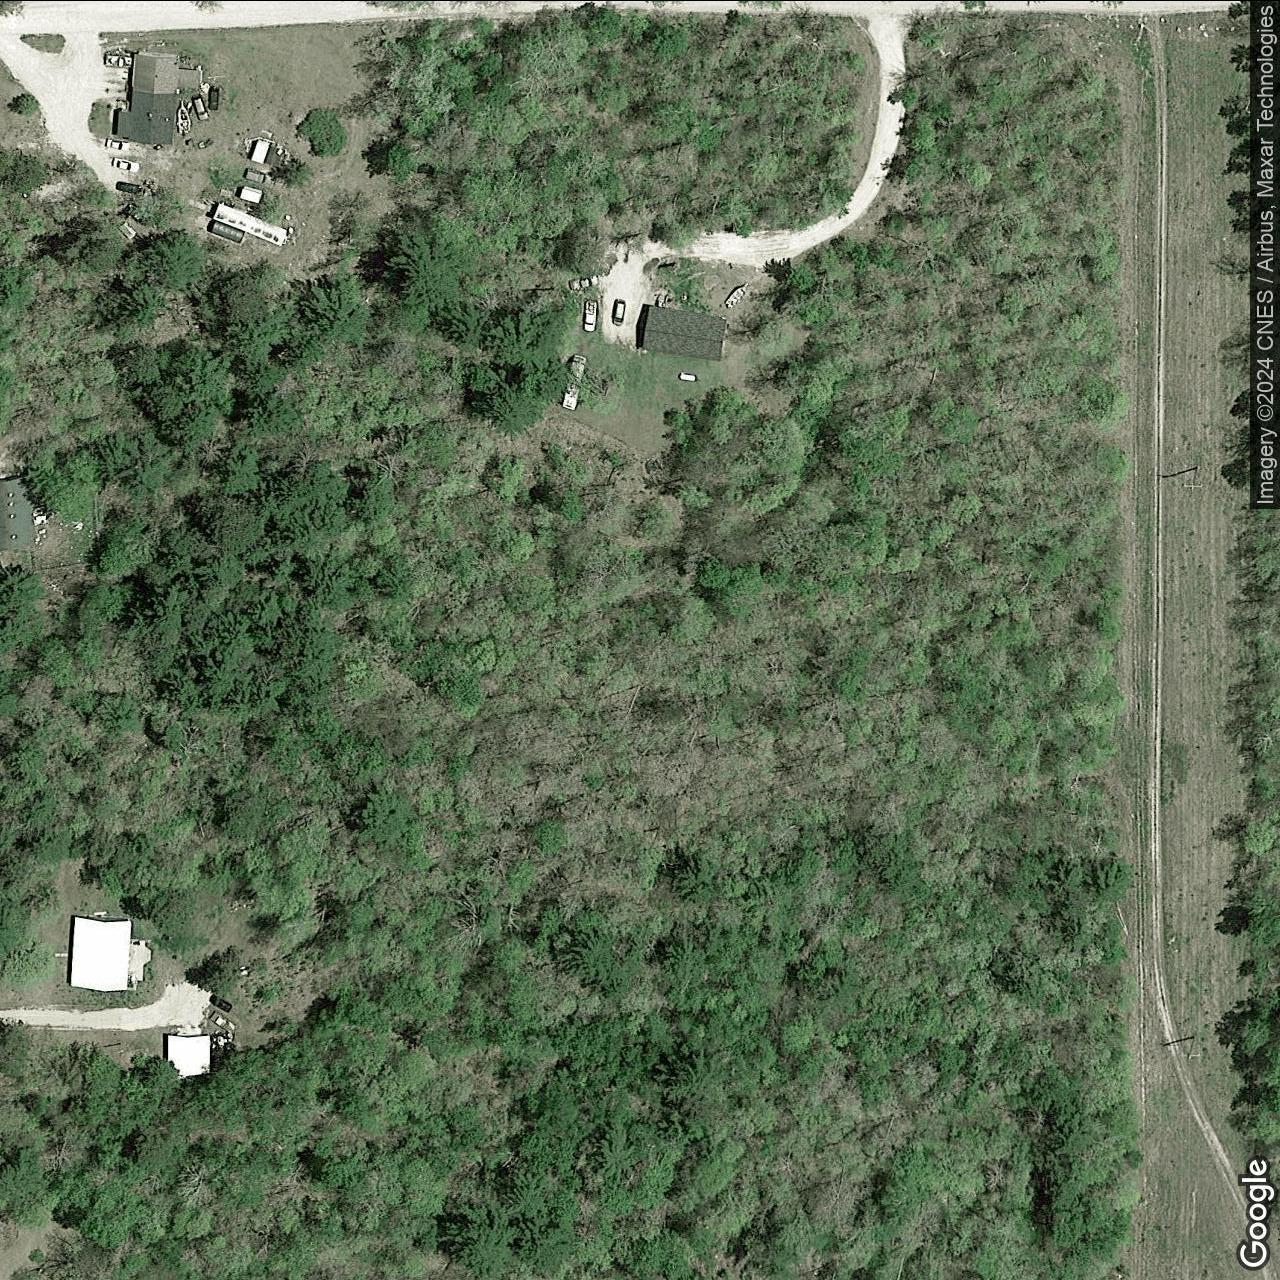Garage: (166, 1033, 211, 1075)
House: (115, 48, 204, 145), (641, 304, 729, 362), (69, 915, 132, 990), (0, 474, 34, 549)
Propane: (675, 370, 699, 383)
Trailer: (210, 199, 291, 248)
